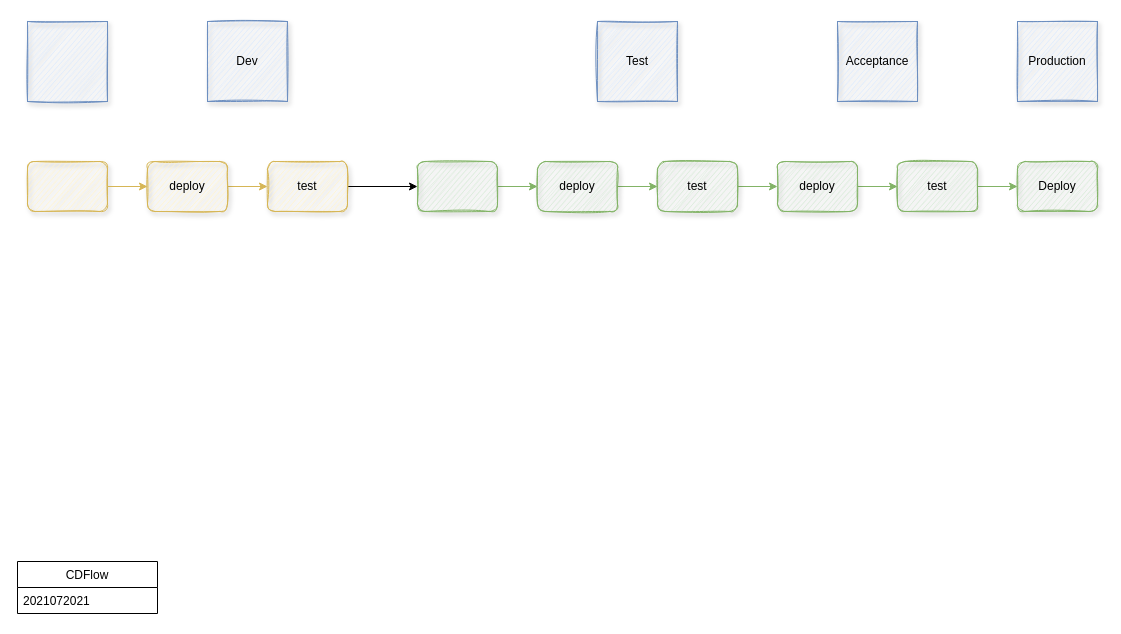
The diagram is 1121 pixels wide and 634 high, and some of its shapes have lost their labels. Here are the shapes that lost their labels. From the top down, the centre of each, then its label:
At point 68,62: "Build".
At point 68,187: "Build test static package".
At point 458,187: "get".
